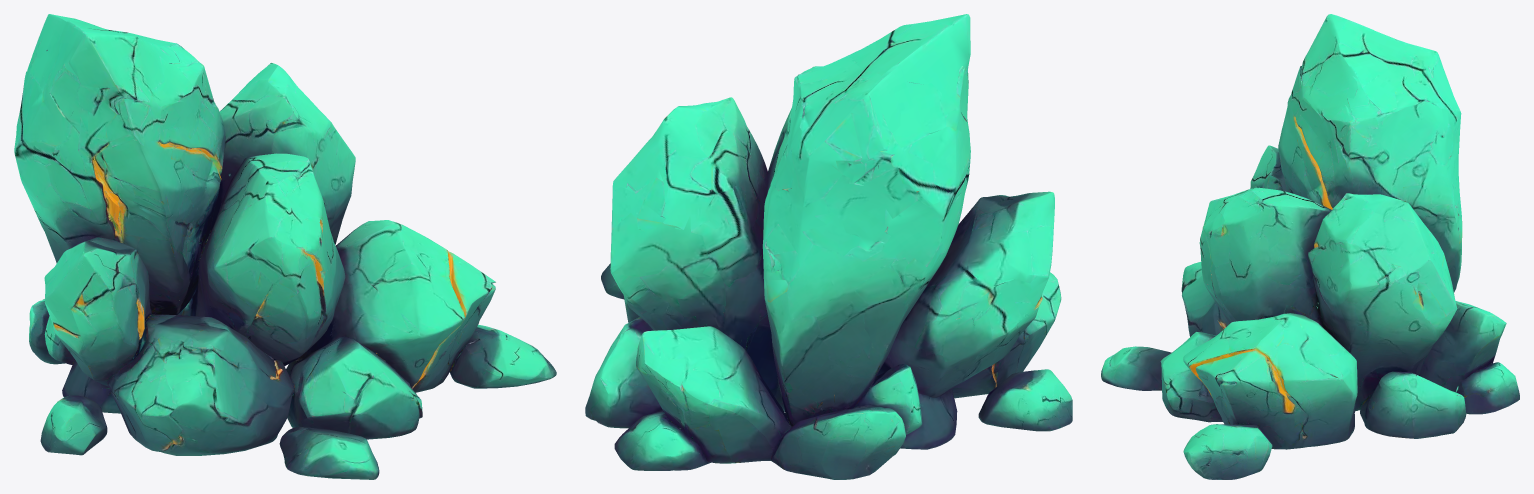
The model's file is prop-obsidian-rocks.glb.
3 renders of one model, left to right at view 1: azimuth 30°, elevation 25°; view 2: azimuth 150°, elevation 25°; view 3: azimuth 270°, elevation 25°, orthographic. The views are drawn at different scales.
Parts seen in each view (by area): view 1: Mesh_0; view 2: Mesh_0; view 3: Mesh_0.
Boxes of the visible parts, x1,y1,x2,y2 form: Mesh_0: (14,14,556,479); Mesh_0: (585,14,1072,479); Mesh_0: (1101,14,1519,479).
Size of the model in its own units: 1.9 by 1.49 by 1.82.
1 material, 1 textured.
